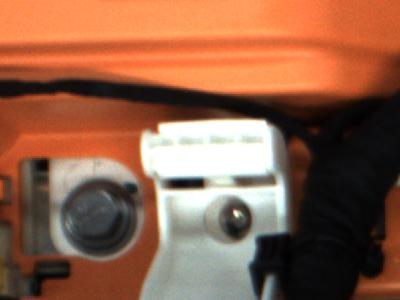nut_b: (54, 176, 137, 260)
